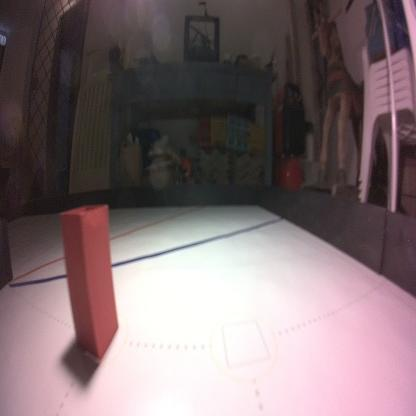red: (60, 201, 121, 360)
